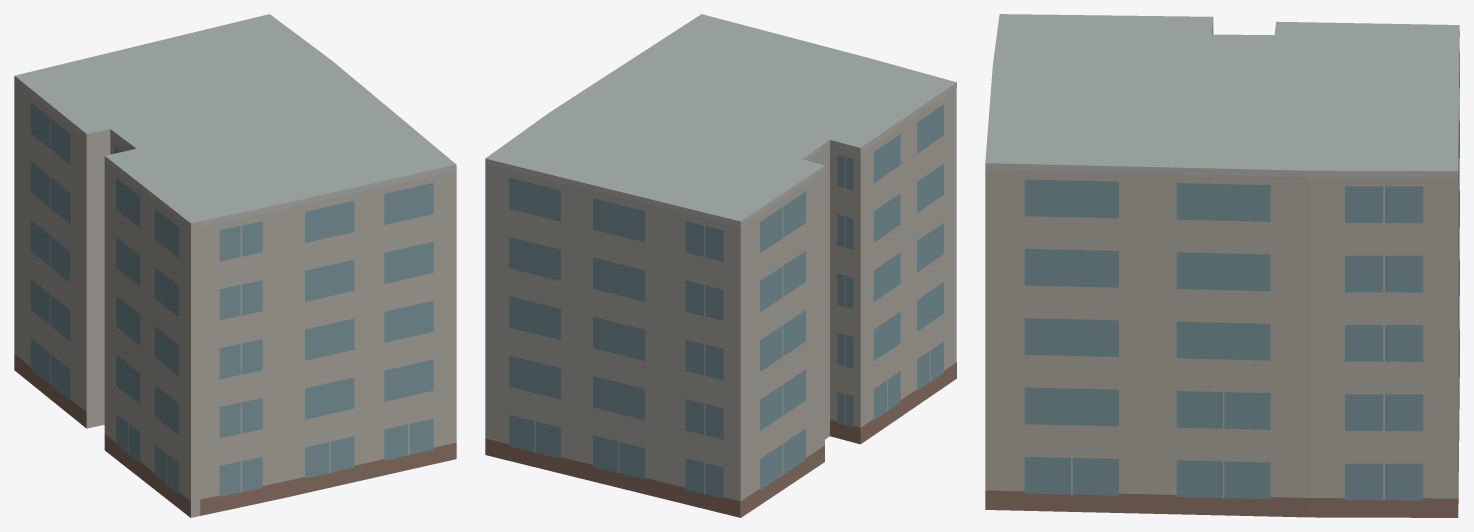
File: survey-upis-32773290.glb
3 renders of one model, left to right at view 1: azimuth 30°, elevation 25°; view 2: azimuth 150°, elevation 25°; view 3: azimuth 270°, elevation 25°, orthographic. The views are drawn at different scales.
Parts seen in each view (by area): view 1: survey-upis-32773290.tmp; view 2: survey-upis-32773290.tmp; view 3: survey-upis-32773290.tmp.
Part boxes in pixels (bbox=[...]): survey-upis-32773290.tmp: bbox=[14, 14, 456, 517]; survey-upis-32773290.tmp: bbox=[485, 14, 956, 517]; survey-upis-32773290.tmp: bbox=[985, 14, 1459, 517].
Size of the model in its own units: 12.26 by 12.6 by 15.64.
